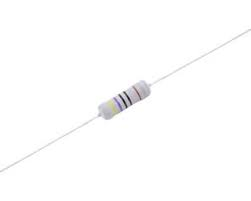resistor: (70, 77, 161, 131)
